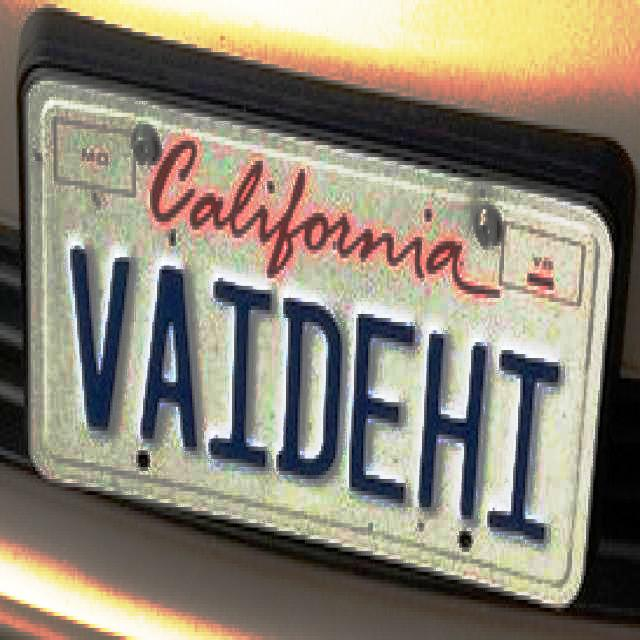license_plate: (39, 73, 606, 593)
